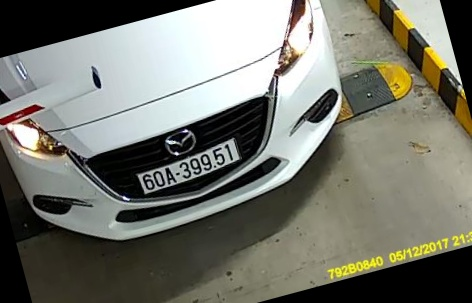plate: (129, 139, 258, 206)
